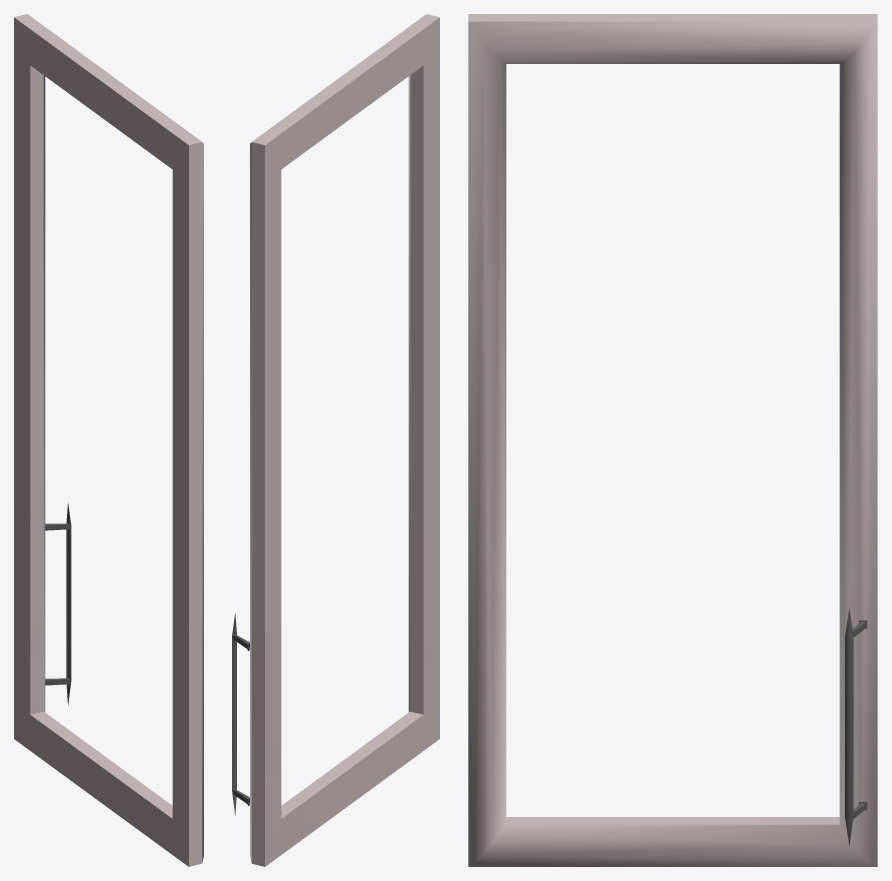
Rendered from kitchencupboard_doorWindow_L.glb.
3 renders of one model, left to right at view 1: azimuth 30°, elevation 25°; view 2: azimuth 150°, elevation 25°; view 3: azimuth 270°, elevation 25°, orthographic. The views are drawn at different scales.
Visible parts, largest first — view 1: RC_Furn_CabinetTopShelfDoor1; view 2: RC_Furn_CabinetTopShelfDoor1; view 3: RC_Furn_CabinetTopShelfDoor1.
Boxes of the visible parts, x1,y1,x2,y2 form: RC_Furn_CabinetTopShelfDoor1: (14, 14, 203, 866); RC_Furn_CabinetTopShelfDoor1: (232, 14, 439, 866); RC_Furn_CabinetTopShelfDoor1: (468, 14, 877, 866).
Bounding box in the file's own units: 0.1559 × 2.38 × 1.04.
Materials: 1 (1 with a texture image).
